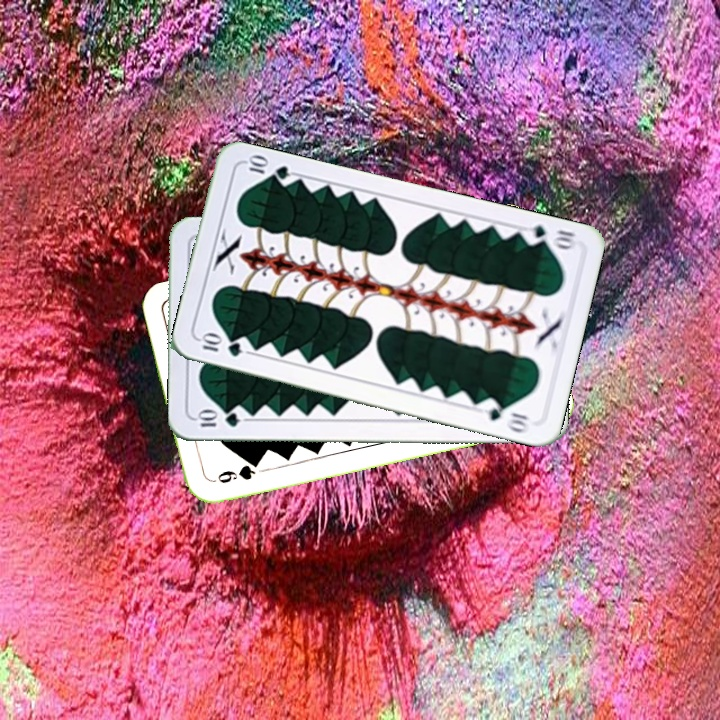G10: (519, 221, 579, 252), (196, 331, 245, 360), (193, 409, 242, 429)
G9: (206, 458, 263, 486)
